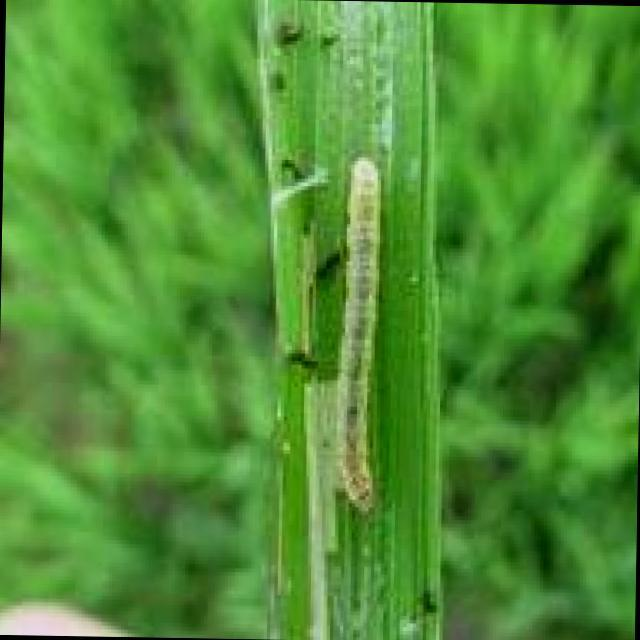leaf folder: (335, 158, 380, 511)
